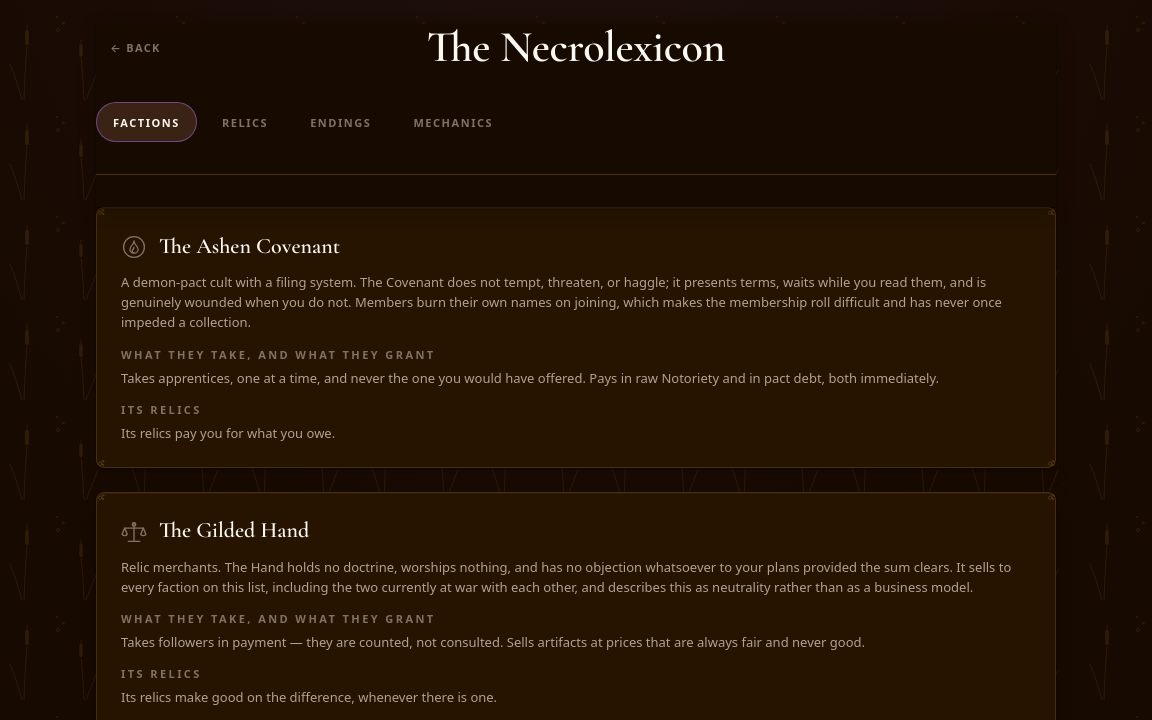
Scenario: NecrolexiconScreen · the grid shows everything from run one › names a relic once it has been found
The width and height of the screenshot is (1152, 720).
Click the tab "Relics" at (245, 122), box [205,102,285,142]
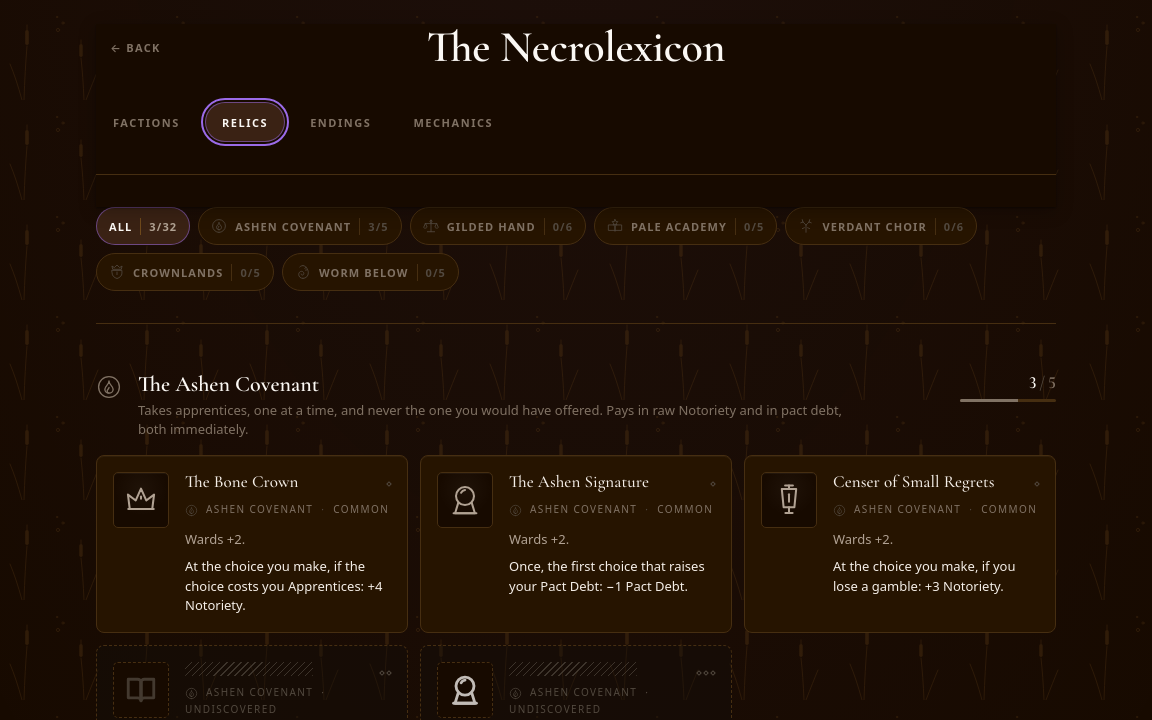
Expected: the heading "The Bone Crown" is shown, [185,472,298,493]
